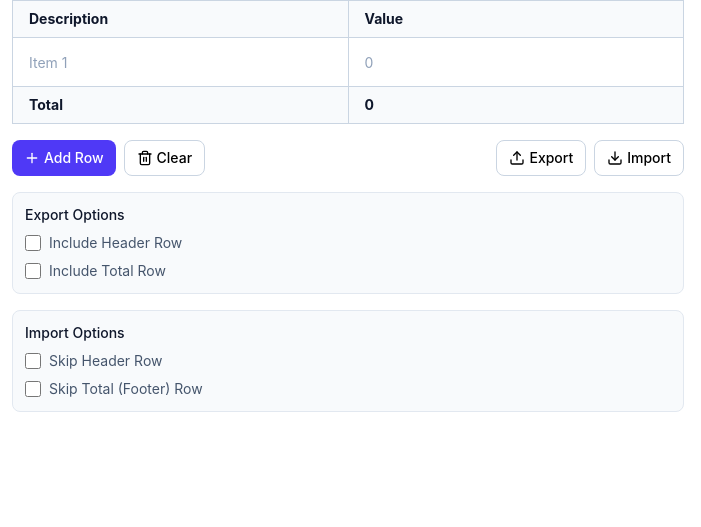
Test: ColumnSumTable › Sum Calculation › should handle mixed positive, negative, and decimal values
Step 1. Click the button "Add Row" → (64, 158), box [12, 140, 116, 176]
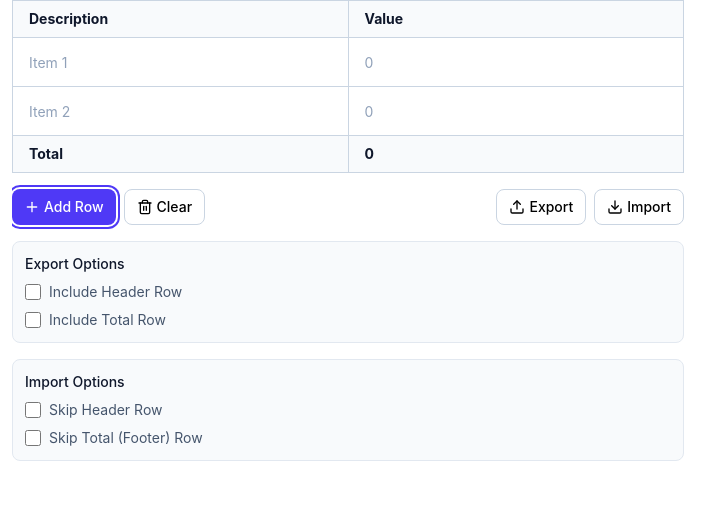
Step 2. Click the button "Add Row" → (64, 207), box [12, 189, 116, 225]
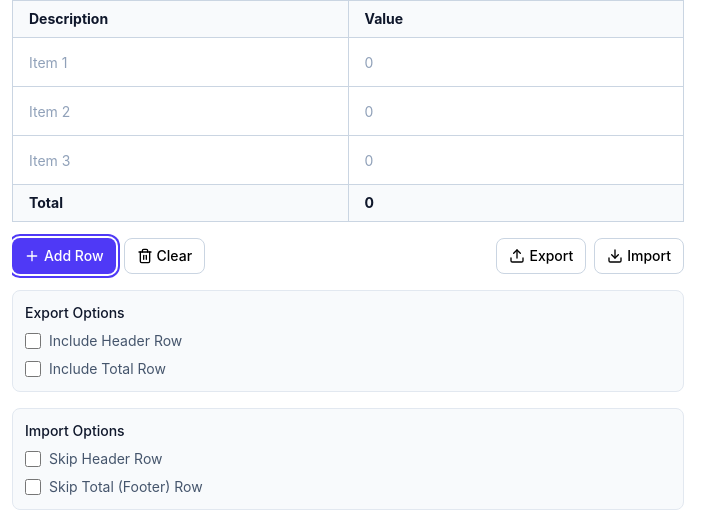
Step 3. Type "100.5" into the field named "value" → (516, 62), box [352, 42, 679, 82]
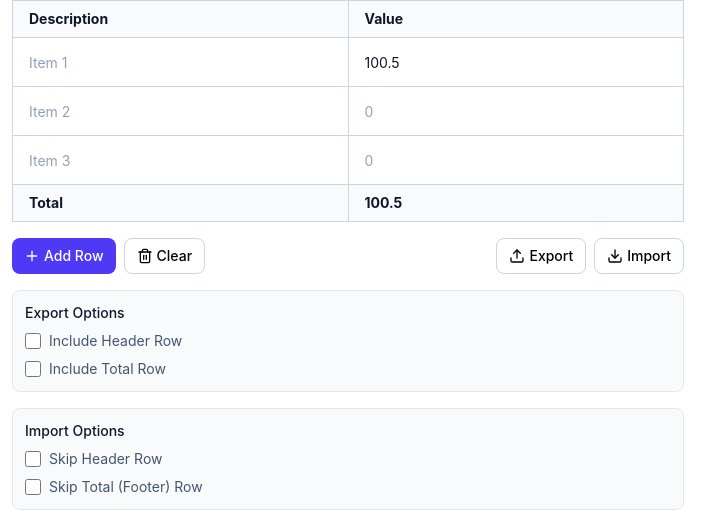
Step 4. Type "-50.25" into the field named "value" → (516, 111), box [352, 91, 679, 131]
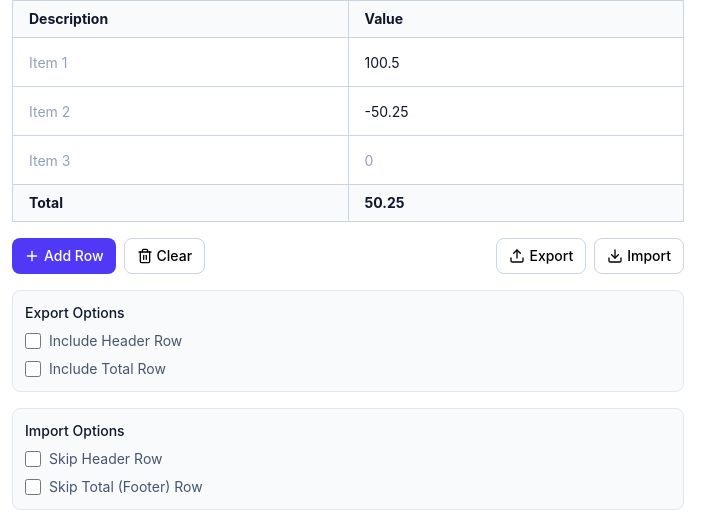
Step 5. Type "25.75" into the field named "value" → (516, 160), box [352, 140, 679, 180]
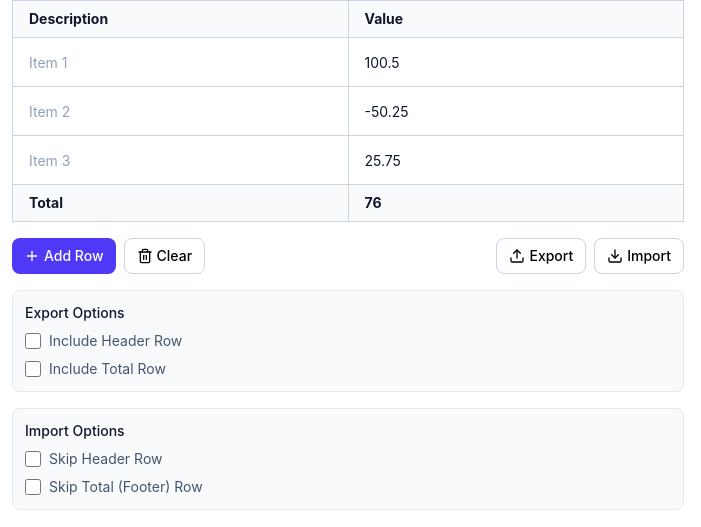
Check: the text "Total" shows "76", box [364, 194, 382, 211]
